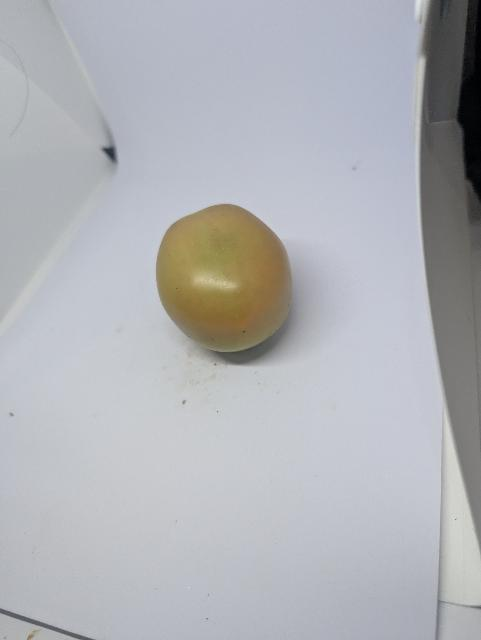breaker: (146, 201, 310, 365)
